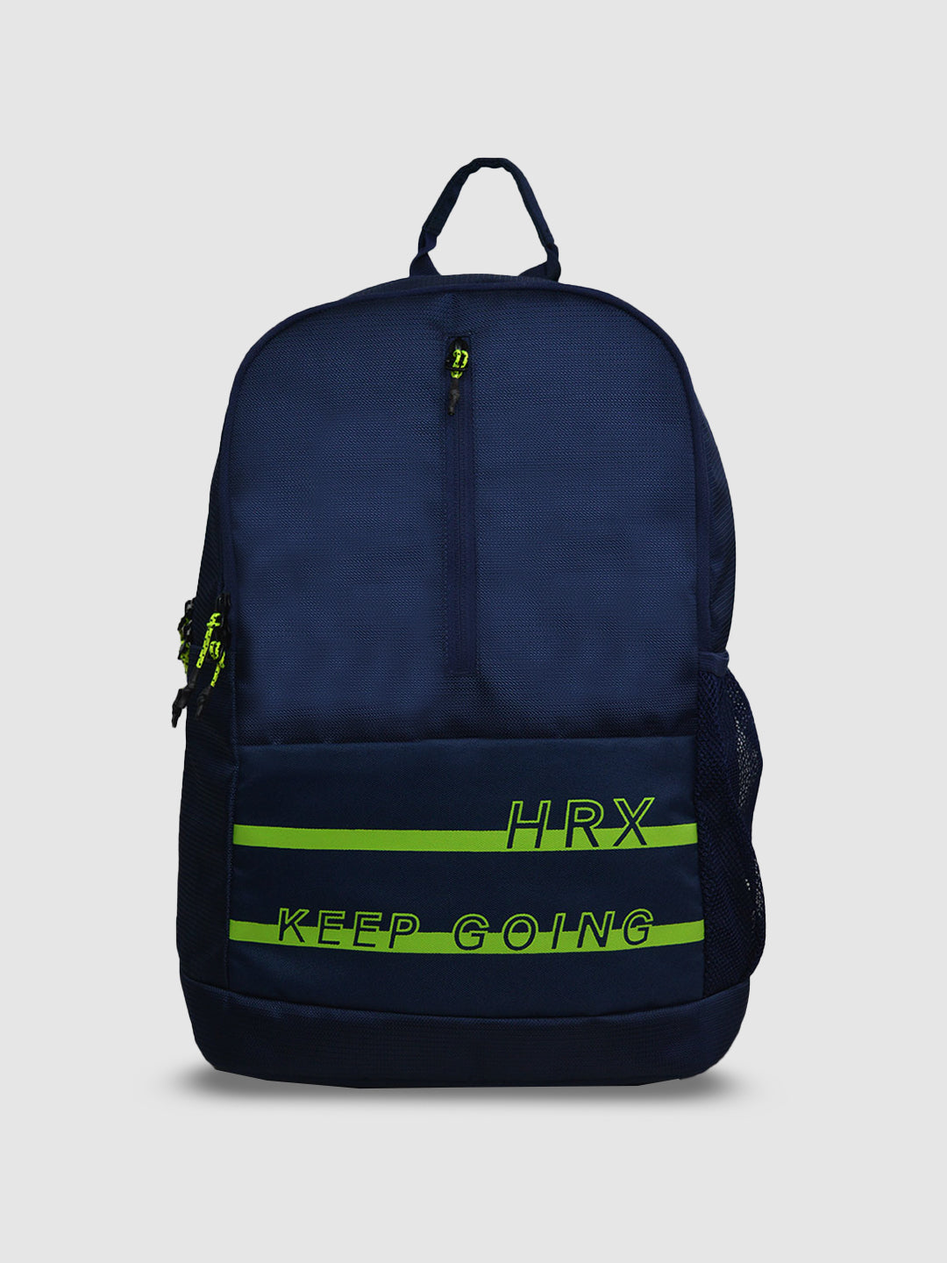backpack: (171, 155, 766, 1088)
